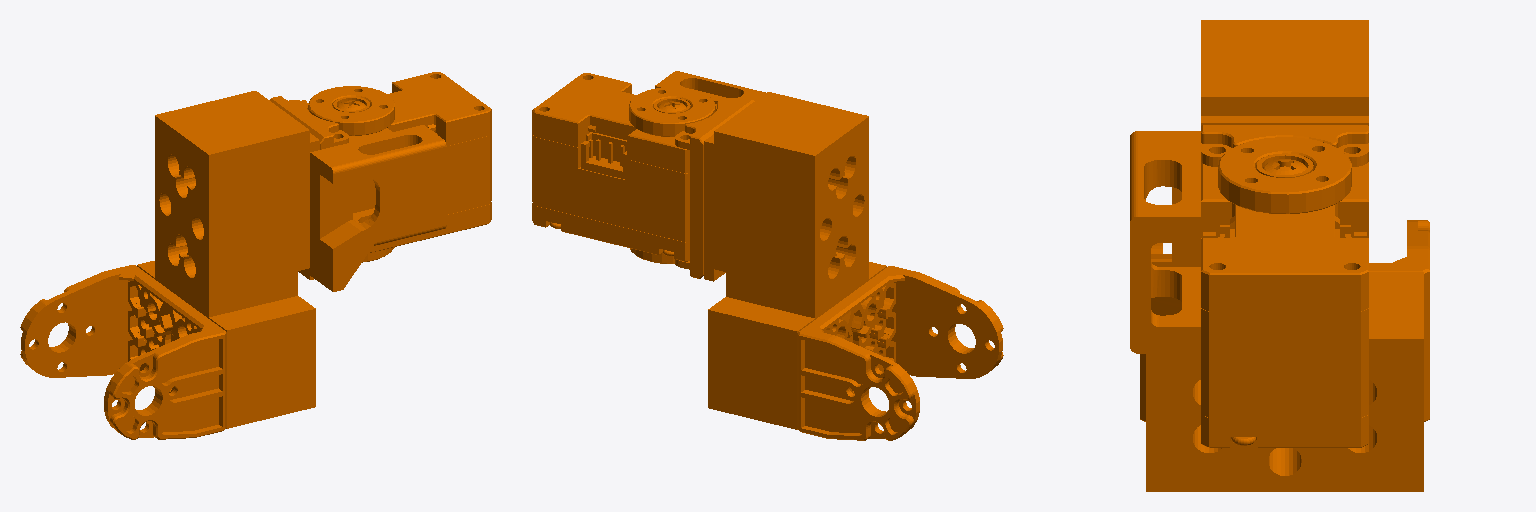
URDF robot description (onshape):
<robot name="onshape">
  <link name="palm_lower">
    <inertial>
      <origin xyz="0.0 0.0 0.0" rpy="0.0 -0.0 0.0"/>
      <mass value="0.237"/>
      <inertia ixx="0.000354094" ixy="-1.193e-06" ixz="-2.445e-06" iyy="0.000260915" iyz="-2.905e-06" izz="0.000529257"/>
    </inertial>
    <visual>
      <geometry>
        <mesh filename="../assets/leap/leap_hand/palm_lower.stl"/>
      </geometry>
      <origin xyz="-0.020095249652862544 0.025757756134899473 -0.034722403578460216" rpy="0.0 -0.0 0.0"/>
      <material name="palm_lower_material">
        <color rgba="0.6039215686274509 0.14901960784313725 0.14901960784313725 1.0"/>
      </material>
    </visual>
    <collision>
      <geometry>
        <mesh filename="../assets/leap/leap_hand/palm_lower.stl"/>
      </geometry>
      <origin xyz="-0.020095249652862544 0.025757756134899473 -0.034722403578460216" rpy="0.0 -0.0 0.0"/>
    </collision>
  </link>
  <link name="mcp_joint_long">
    <inertial>
      <origin xyz="0.0 0.0 0.0" rpy="0.0 -0.0 0.0"/>
      <mass value="0.044"/>
      <inertia ixx="1.1499e-05" ixy="3.049e-06" ixz="1.21e-07" iyy="7.796e-06" iyz="1.12e-07" izz="1.4759e-05"/>
    </inertial>
    <visual>
      <geometry>
        <mesh filename="custom_models/mcp_joint_long.stl"/>
      </geometry>
      <origin xyz="0.008406902261174496 0.0077662438597169954 0.014657354985032912" rpy="1.6375789613221e-15 -1.021047330249102e-30 1.7177968783327987e-31"/>
      <material name="mcp_joint_material">
        <color rgba="0.878 0.467 0.0 1.0"/>
      </material>
    </visual>
    <collision>
      <geometry>
        <mesh filename="custom_models/mcp_joint_long.stl"/>
      </geometry>
      <origin xyz="0.008406902261174496 0.0077662438597169954 0.014657354985032912" rpy="1.6375789613221e-15 -1.021047330249102e-30 1.7177968783327987e-31"/>
    </collision>
  </link>
  <link name="pip">
    <inertial>
      <origin xyz="0.0 0.0 0.0" rpy="0.0 -0.0 0.0"/>
      <mass value="0.032"/>
      <inertia ixx="4.798e-06" ixy="1.2e-08" ixz="4e-09" iyy="2.862e-06" iyz="1.1e-08" izz="4.234e-06"/>
    </inertial>
    <visual>
      <geometry>
        <mesh filename="../assets/leap/leap_hand/pip.stl"/>
      </geometry>
      <origin xyz="0.009643363092271328 0.0002999999999999895 0.0007840340104173765" rpy="-1.5707963267948966 -1.5707963267948963 0.0"/>
      <material name="pip_material">
        <color rgba="0.7490196078431373 0.7490196078431373 0.7490196078431373 1.0"/>
      </material>
    </visual>
    <collision>
      <geometry>
        <mesh filename="../assets/leap/leap_hand/pip.stl"/>
      </geometry>
      <origin xyz="0.009643363092271328 0.0002999999999999895 0.0007840340104173765" rpy="-1.5707963267948966 -1.5707963267948963 0.0"/>
    </collision>
  </link>
  <link name="dip">
    <inertial>
      <origin xyz="0.0 0.0 0.0" rpy="0.0 -0.0 0.0"/>
      <mass value="0.037"/>
      <inertia ixx="5.542e-06" ixy="-6.07e-07" ixz="-1.7e-08" iyy="5.727e-06" iyz="-2.3e-08" izz="6.682e-06"/>
    </inertial>
    <visual>
      <geometry>
        <mesh filename="../assets/leap/leap_hand/dip.stl"/>
      </geometry>
      <origin xyz="0.021133352895225003 -0.00843211914670488 0.00978508816209524" rpy="-3.141592653589793 4.507511124216441e-32 4.439548105392361e-32"/>
      <material name="dip_material">
        <color rgba="0.8666666666666667 0.8666666666666667 0.050980392156862744 1.0"/>
      </material>
    </visual>
    <collision>
      <geometry>
        <mesh filename="../assets/leap/leap_hand/dip.stl"/>
      </geometry>
      <origin xyz="0.021133352895225003 -0.00843211914670488 0.00978508816209524" rpy="-3.141592653589793 4.507511124216441e-32 4.439548105392361e-32"/>
    </collision>
  </link>
  <link name="fingertip">
    <inertial>
      <origin xyz="0.0 0.0 0.0" rpy="0.0 -0.0 0.0"/>
      <mass value="0.016"/>
      <inertia ixx="3.368e-06" ixy="1.15e-07" ixz="0.0" iyy="1.556e-06" iyz="0.0" izz="2.863e-06"/>
    </inertial>
    <visual>
      <geometry>
        <mesh filename="../assets/leap/leap_hand/fingertip.stl"/>
      </geometry>
      <origin xyz="0.013286424108533503 -0.006114238386541987 0.014499999999999498" rpy="3.141592653589793 1.1993117970061735e-33 4.439548105392361e-32"/>
      <material name="fingertip_material">
        <color rgba="0.8666666666666667 0.8666666666666667 0.050980392156862744 1.0"/>
      </material>
    </visual>
    <collision>
      <geometry>
        <mesh filename="../assets/leap/leap_hand/fingertip.stl"/>
      </geometry>
      <origin xyz="0.013286424108533503 -0.006114238386541987 0.014499999999999498" rpy="3.141592653589793 1.1993117970061735e-33 4.439548105392361e-32"/>
    </collision>
  </link>
  <link name="pip_4">
    <inertial>
      <origin xyz="0.0 0.0 0.0" rpy="0.0 -0.0 0.0"/>
      <mass value="0.032"/>
      <inertia ixx="4.798e-06" ixy="1.2e-08" ixz="4e-09" iyy="2.862e-06" iyz="1.1e-08" izz="4.234e-06"/>
    </inertial>
    <visual>
      <geometry>
        <mesh filename="../assets/leap/leap_hand/pip.stl"/>
      </geometry>
      <origin xyz="-0.005356636907728671 0.0002999999999999999 0.0007840340104173782" rpy="-1.5707963267948966 -1.5707963267948963 0.0"/>
      <material name="pip_material">
        <color rgba="0.7490196078431373 0.7490196078431373 0.7490196078431373 1.0"/>
      </material>
    </visual>
    <collision>
      <geometry>
        <mesh filename="../assets/leap/leap_hand/pip.stl"/>
      </geometry>
      <origin xyz="-0.005356636907728671 0.0002999999999999999 0.0007840340104173782" rpy="-1.5707963267948966 -1.5707963267948963 0.0"/>
    </collision>
  </link>
  <link name="thumb_pip">
    <inertial>
      <origin xyz="0.0 0.0 0.0" rpy="0.0 -0.0 0.0"/>
      <mass value="0.003"/>
      <inertia ixx="5.93e-07" ixy="0.0" ixz="0.0" iyy="5.49e-07" iyz="0.0" izz="2.24e-07"/>
    </inertial>
    <visual>
      <geometry>
        <mesh filename="../assets/leap/leap_hand/thumb_pip.stl"/>
      </geometry>
      <origin xyz="0.011961920770611187 -5.30825383648903e-16 -0.0158526489566642" rpy="1.5707963267948966 1.6050198443300153e-46 -3.9204996250525193e-59"/>
      <material name="thumb_pip_material">
        <color rgba="0.8666666666666667 0.8666666666666667 0.050980392156862744 1.0"/>
      </material>
    </visual>
    <collision>
      <geometry>
        <mesh filename="../assets/leap/leap_hand/thumb_pip.stl"/>
      </geometry>
      <origin xyz="0.011961920770611187 -5.30825383648903e-16 -0.0158526489566642" rpy="1.5707963267948966 1.6050198443300153e-46 -3.9204996250525193e-59"/>
    </collision>
  </link>
  <link name="thumb_dip">
    <inertial>
      <origin xyz="0.0 0.0 0.0" rpy="0.0 -0.0 0.0"/>
      <mass value="0.038"/>
      <inertia ixx="8.474e-06" ixy="2.41e-07" ixz="2.6e-08" iyy="3.841e-06" iyz="2.5e-08" izz="7.679e-06"/>
    </inertial>
    <visual>
      <geometry>
        <mesh filename="../assets/leap/leap_hand/thumb_dip.stl"/>
      </geometry>
      <origin xyz="0.043968715707239175 0.0579529529737092 -0.008628676449369476" rpy="1.94289029309401e-16 3.27515792264422e-15 1.112375852965736e-46"/>
      <material name="thumb_dip_material">
        <color rgba="0.8666666666666667 0.8666666666666667 0.050980392156862744 1.0"/>
      </material>
    </visual>
    <collision>
      <geometry>
        <mesh filename="../assets/leap/leap_hand/thumb_dip.stl"/>
      </geometry>
      <origin xyz="0.043968715707239175 0.0579529529737092 -0.008628676449369476" rpy="1.94289029309401e-16 3.27515792264422e-15 1.112375852965736e-46"/>
    </collision>
  </link>
  <link name="thumb_fingertip">
    <inertial>
      <origin xyz="0.0 0.0 0.0" rpy="0.0 -0.0 0.0"/>
      <mass value="0.049"/>
      <inertia ixx="2.0372e-05" ixy="-4.89e-07" ixz="-3e-08" iyy="4.336e-06" iyz="-9.7e-08" izz="1.9845e-05"/>
    </inertial>
    <visual>
      <geometry>
        <mesh filename="../assets/leap/leap_hand/thumb_fingertip.stl"/>
      </geometry>
      <origin xyz="0.06255953846266739 0.07845968291139699 0.048992911807332215" rpy="4.379057701015637e-47 -3.33066907387547e-16 1.2042408677791935e-46"/>
      <material name="thumb_fingertip_material">
        <color rgba="0.6039215686274509 0.14901960784313725 0.14901960784313725 1.0"/>
      </material>
    </visual>
    <collision>
      <geometry>
        <mesh filename="../assets/leap/leap_hand/thumb_fingertip.stl"/>
      </geometry>
      <origin xyz="0.06255953846266739 0.07845968291139699 0.048992911807332215" rpy="4.379057701015637e-47 -3.33066907387547e-16 1.2042408677791935e-46"/>
    </collision>
  </link>
  <link name="mcp_joint_2">
    <inertial>
      <origin xyz="0.0 0.0 0.0" rpy="0.0 -0.0 0.0"/>
      <mass value="0.044"/>
      <inertia ixx="1.1499e-05" ixy="3.049e-06" ixz="1.21e-07" iyy="7.796e-06" iyz="1.12e-07" izz="1.4759e-05"/>
    </inertial>
    <visual>
      <geometry>
        <mesh filename="../assets/leap/leap_hand/mcp_joint.stl"/>
      </geometry>
      <origin xyz="0.008406902261174496 0.0077662438597169954 0.014657354985032914" rpy="1.6375789613221e-15 -1.0076465469034e-30 2.1209300131419907e-61"/>
      <material name="mcp_joint_material">
        <color rgba="0.8666666666666667 0.8666666666666667 0.050980392156862744 1.0"/>
      </material>
    </visual>
    <collision>
      <geometry>
        <mesh filename="../assets/leap/leap_hand/mcp_joint.stl"/>
      </geometry>
      <origin xyz="0.008406902261174496 0.0077662438597169954 0.014657354985032914" rpy="1.6375789613221e-15 -1.0076465469034e-30 2.1209300131419907e-61"/>
    </collision>
  </link>
  <link name="pip_2">
    <inertial>
      <origin xyz="0.0 0.0 0.0" rpy="0.0 -0.0 0.0"/>
      <mass value="0.032"/>
      <inertia ixx="4.798e-06" ixy="1.2e-08" ixz="4e-09" iyy="2.862e-06" iyz="1.1e-08" izz="4.234e-06"/>
    </inertial>
    <visual>
      <geometry>
        <mesh filename="../assets/leap/leap_hand/pip.stl"/>
      </geometry>
      <origin xyz="0.009643363092271328 0.0002999999999999947 0.0007840340104173765" rpy="-1.5707963267948966 -1.5707963267948963 0.0"/>
      <material name="pip_material">
        <color rgba="0.7490196078431373 0.7490196078431373 0.7490196078431373 1.0"/>
      </material>
    </visual>
    <collision>
      <geometry>
        <mesh filename="../assets/leap/leap_hand/pip.stl"/>
      </geometry>
      <origin xyz="0.009643363092271328 0.0002999999999999947 0.0007840340104173765" rpy="-1.5707963267948966 -1.5707963267948963 0.0"/>
    </collision>
  </link>
  <link name="dip_2">
    <inertial>
      <origin xyz="0.0 0.0 0.0" rpy="0.0 -0.0 0.0"/>
      <mass value="0.037"/>
      <inertia ixx="5.542e-06" ixy="-6.07e-07" ixz="-1.7e-08" iyy="5.727e-06" iyz="-2.3e-08" izz="6.682e-06"/>
    </inertial>
    <visual>
      <geometry>
        <mesh filename="../assets/leap/leap_hand/dip.stl"/>
      </geometry>
      <origin xyz="0.021133352895225003 -0.008432119146704865 0.009785088162095237" rpy="-3.141592653589793 2.1146933785271956e-32 1.4408183216511869e-31"/>
      <material name="dip_material">
        <color rgba="0.8666666666666667 0.8666666666666667 0.050980392156862744 1.0"/>
      </material>
    </visual>
    <collision>
      <geometry>
        <mesh filename="../assets/leap/leap_hand/dip.stl"/>
      </geometry>
      <origin xyz="0.021133352895225003 -0.008432119146704865 0.009785088162095237" rpy="-3.141592653589793 2.1146933785271956e-32 1.4408183216511869e-31"/>
    </collision>
  </link>
  <link name="fingertip_2">
    <inertial>
      <origin xyz="0.0 0.0 0.0" rpy="0.0 -0.0 0.0"/>
      <mass value="0.016"/>
      <inertia ixx="3.368e-06" ixy="1.15e-07" ixz="0.0" iyy="1.556e-06" iyz="0.0" izz="2.863e-06"/>
    </inertial>
    <visual>
      <geometry>
        <mesh filename="../assets/leap/leap_hand/fingertip.stl"/>
      </geometry>
      <origin xyz="0.013286424108533496 -0.006114238386542001 0.014499999999999496" rpy="3.141592653589793 -4.317959788283594e-33 1.4408183216511869e-31"/>
      <material name="fingertip_material">
        <color rgba="0.8666666666666667 0.8666666666666667 0.050980392156862744 1.0"/>
      </material>
    </visual>
    <collision>
      <geometry>
        <mesh filename="../assets/leap/leap_hand/fingertip.stl"/>
      </geometry>
      <origin xyz="0.013286424108533496 -0.006114238386542001 0.014499999999999496" rpy="3.141592653589793 -4.317959788283594e-33 1.4408183216511869e-31"/>
    </collision>
  </link>
  <link name="mcp_joint_3">
    <inertial>
      <origin xyz="0.0 0.0 0.0" rpy="0.0 -0.0 0.0"/>
      <mass value="0.044"/>
      <inertia ixx="1.1499e-05" ixy="3.049e-06" ixz="1.21e-07" iyy="7.796e-06" iyz="1.12e-07" izz="1.4759e-05"/>
    </inertial>
    <visual>
      <geometry>
        <mesh filename="../assets/leap/leap_hand/mcp_joint.stl"/>
      </geometry>
      <origin xyz="0.0084069022611745 0.007766243859716996 0.014657354985032914" rpy="1.6375789613221e-15 -1.0059504988632627e-30 5.729641584552035e-32"/>
      <material name="mcp_joint_material">
        <color rgba="0.8666666666666667 0.8666666666666667 0.050980392156862744 1.0"/>
      </material>
    </visual>
    <collision>
      <geometry>
        <mesh filename="../assets/leap/leap_hand/mcp_joint.stl"/>
      </geometry>
      <origin xyz="0.0084069022611745 0.007766243859716996 0.014657354985032914" rpy="1.6375789613221e-15 -1.0059504988632627e-30 5.729641584552035e-32"/>
    </collision>
  </link>
  <link name="pip_3">
    <inertial>
      <origin xyz="0.0 0.0 0.0" rpy="0.0 -0.0 0.0"/>
      <mass value="0.032"/>
      <inertia ixx="4.798e-06" ixy="1.2e-08" ixz="4e-09" iyy="2.862e-06" iyz="1.1e-08" izz="4.234e-06"/>
    </inertial>
    <visual>
      <geometry>
        <mesh filename="../assets/leap/leap_hand/pip.stl"/>
      </geometry>
      <origin xyz="0.009643363092271331 0.00029999999999998084 0.0007840340104173765" rpy="-1.5707963267948966 -1.5707963267948963 0.0"/>
      <material name="pip_material">
        <color rgba="0.7490196078431373 0.7490196078431373 0.7490196078431373 1.0"/>
      </material>
    </visual>
    <collision>
      <geometry>
        <mesh filename="../assets/leap/leap_hand/pip.stl"/>
      </geometry>
      <origin xyz="0.009643363092271331 0.00029999999999998084 0.0007840340104173765" rpy="-1.5707963267948966 -1.5707963267948963 0.0"/>
    </collision>
  </link>
  <link name="dip_3">
    <inertial>
      <origin xyz="0.0 0.0 0.0" rpy="0.0 -0.0 0.0"/>
      <mass value="0.037"/>
      <inertia ixx="5.542e-06" ixy="-6.07e-07" ixz="-1.7e-08" iyy="5.727e-06" iyz="-2.3e-08" izz="6.682e-06"/>
    </inertial>
    <visual>
      <geometry>
        <mesh filename="../assets/leap/leap_hand/dip.stl"/>
      </geometry>
      <origin xyz="0.021133352895225006 -0.008432119146704865 0.009785088162095237" rpy="-3.141592653589793 -1.4095651113919093e-33 1.5565411607615035e-32"/>
      <material name="dip_material">
        <color rgba="0.8666666666666667 0.8666666666666667 0.050980392156862744 1.0"/>
      </material>
    </visual>
    <collision>
      <geometry>
        <mesh filename="../assets/leap/leap_hand/dip.stl"/>
      </geometry>
      <origin xyz="0.021133352895225006 -0.008432119146704865 0.009785088162095237" rpy="-3.141592653589793 -1.4095651113919093e-33 1.5565411607615035e-32"/>
    </collision>
  </link>
  <link name="fingertip_3">
    <inertial>
      <origin xyz="0.0 0.0 0.0" rpy="0.0 -0.0 0.0"/>
      <mass value="0.016"/>
      <inertia ixx="3.368e-06" ixy="1.15e-07" ixz="0.0" iyy="1.556e-06" iyz="0.0" izz="2.863e-06"/>
    </inertial>
    <visual>
      <geometry>
        <mesh filename="../assets/leap/leap_hand/fingertip.stl"/>
      </geometry>
      <origin xyz="0.013286424108533501 -0.006114238386541987 0.0144999999999995" rpy="3.141592653589793 8.61707169505754e-33 1.5565411607615035e-32"/>
      <material name="fingertip_material">
        <color rgba="0.8666666666666667 0.8666666666666667 0.050980392156862744 1.0"/>
      </material>
    </visual>
    <collision>
      <geometry>
        <mesh filename="../assets/leap/leap_hand/fingertip.stl"/>
      </geometry>
      <origin xyz="0.013286424108533501 -0.006114238386541987 0.0144999999999995" rpy="3.141592653589793 8.61707169505754e-33 1.5565411607615035e-32"/>
    </collision>
  </link>
  <joint name="1" type="revolute">
    <parent link="palm_lower"/>
    <child link="mcp_joint_long"/>
    <origin xyz="-0.007095249652862546 0.023057756134899472 -0.01872240357846022" rpy="1.570796326794895 1.5707963267948946 0.0"/>
    <axis xyz="0.0 0.0 -1.0"/>
    <limit effort="0.95" velocity="8.48" lower="-0.314" upper="2.23"/>
  </joint>
  <joint name="0" type="revolute">
    <parent link="mcp_joint_long"/>
    <child link="pip"/>
    <origin xyz="-0.012200000000000007713 0.053099999999999994982 0.014500000000000000736" rpy="-1.5707963267948966 -1.0065212660796337e-15 1.5707963267948943"/>
    <axis xyz="0.0 0.0 -1.0"/>
    <limit effort="0.95" velocity="8.48" lower="-1.047" upper="1.047"/>
  </joint>
  <joint name="2" type="revolute">
    <parent link="pip"/>
    <child link="dip"/>
    <origin xyz="0.014999999999999968 0.014299999999999905 -0.012999999999999824" rpy="1.570796326794896 -1.5707963267948963 0.0"/>
    <axis xyz="0.0 0.0 -1.0"/>
    <limit effort="0.95" velocity="8.48" lower="-0.506" upper="1.885"/>
  </joint>
  <joint name="3" type="revolute">
    <parent link="dip"/>
    <child link="fingertip"/>
    <origin xyz="-4.088058249557269e-09 -0.03610000421036737 0.0002000000000000786" rpy="4.5935029425113685e-17 -2.8730071914463795e-16 4.439548105392361e-32"/>
    <axis xyz="0.0 0.0 -1.0"/>
    <limit effort="0.95" velocity="8.48" lower="-0.366" upper="2.042"/>
  </joint>
  <joint name="12" type="revolute">
    <parent link="palm_lower"/>
    <child link="pip_4"/>
    <origin xyz="-0.06939524965286253 -0.0012422438651005258 -0.021622403578460216" rpy="-8.238176646493942e-17 1.5707963267948957 0.0"/>
    <axis xyz="0.0 0.0 -1.0"/>
    <limit effort="0.95" velocity="8.48" lower="-0.349" upper="2.094"/>
  </joint>
  <joint name="13" type="revolute">
    <parent link="pip_4"/>
    <child link="thumb_pip"/>
    <origin xyz="-2.7755575615628914e-17 0.014300000000000005 -0.013000000000000012" rpy="1.570796326794896 -1.5707963267948963 0.0"/>
    <axis xyz="0.0 0.0 -1.0"/>
    <limit effort="0.95" velocity="8.48" lower="-0.47" upper="2.443"/>
  </joint>
  <joint name="14" type="revolute">
    <parent link="thumb_pip"/>
    <child link="thumb_dip"/>
    <origin xyz="0.0 0.014499999999999966 -0.017000000000000053" rpy="-1.5707963267948966 1.6050198443300131e-46 -1.9721522630516625e-31"/>
    <axis xyz="0.0 0.0 -1.0"/>
    <limit effort="0.95" velocity="8.48" lower="-1.2" upper="1.9"/>
  </joint>
  <joint name="15" type="revolute">
    <parent link="thumb_dip"/>
    <child link="thumb_fingertip"/>
    <origin xyz="-1.249000902703301e-16 0.046599999999999864 0.0001999999999999771" rpy="1.506395849149178e-44 5.423418723393526e-31 3.141592653589793"/>
    <axis xyz="0.0 0.0 -1.0"/>
    <limit effort="0.95" velocity="8.48" lower="-1.34" upper="1.88"/>
  </joint>
  <joint name="5" type="revolute">
    <parent link="palm_lower"/>
    <child link="mcp_joint_2"/>
    <origin xyz="-0.007095249652862546 -0.022392243865100525 -0.01872240357846022" rpy="1.570796326794895 1.5707963267948946 0.0"/>
    <axis xyz="0.0 0.0 -1.0"/>
    <limit effort="0.95" velocity="8.48" lower="-0.314" upper="2.23"/>
  </joint>
  <joint name="4" type="revolute">
    <parent link="mcp_joint_2"/>
    <child link="pip_2"/>
    <origin xyz="-0.012200000000000008 0.038099999999999995 0.0145" rpy="-1.5707963267948966 -1.0065212660796337e-15 1.5707963267948943"/>
    <axis xyz="0.0 0.0 -1.0"/>
    <limit effort="0.95" velocity="8.48" lower="-1.047" upper="1.047"/>
  </joint>
  <joint name="6" type="revolute">
    <parent link="pip_2"/>
    <child link="dip_2"/>
    <origin xyz="0.014999999999999968 0.014299999999999905 -0.012999999999999824" rpy="1.570796326794896 -1.5707963267948963 0.0"/>
    <axis xyz="0.0 0.0 -1.0"/>
    <limit effort="0.95" velocity="8.48" lower="-0.506" upper="1.885"/>
  </joint>
  <joint name="7" type="revolute">
    <parent link="dip_2"/>
    <child link="fingertip_2"/>
    <origin xyz="-4.088058249557269e-09 -0.03610000421036737 0.0002000000000000786" rpy="4.5935029425113685e-17 -2.8730071914463795e-16 4.439548105392361e-32"/>
    <axis xyz="0.0 0.0 -1.0"/>
    <limit effort="0.95" velocity="8.48" lower="-0.366" upper="2.042"/>
  </joint>
  <joint name="9" type="revolute">
    <parent link="palm_lower"/>
    <child link="mcp_joint_3"/>
    <origin xyz="-0.007095249652862546 -0.06784224386510052 -0.01872240357846022" rpy="1.570796326794895 1.5707963267948946 0.0"/>
    <axis xyz="0.0 0.0 -1.0"/>
    <limit effort="0.95" velocity="8.48" lower="-0.314" upper="2.23"/>
  </joint>
  <joint name="8" type="revolute">
    <parent link="mcp_joint_3"/>
    <child link="pip_3"/>
    <origin xyz="-0.012200000000000008 0.038099999999999995 0.0145" rpy="-1.5707963267948966 -1.0065212660796337e-15 1.5707963267948943"/>
    <axis xyz="0.0 0.0 -1.0"/>
    <limit effort="0.95" velocity="8.48" lower="-1.047" upper="1.047"/>
  </joint>
  <joint name="10" type="revolute">
    <parent link="pip_3"/>
    <child link="dip_3"/>
    <origin xyz="0.014999999999999968 0.014299999999999905 -0.012999999999999824" rpy="1.570796326794896 -1.5707963267948963 0.0"/>
    <axis xyz="0.0 0.0 -1.0"/>
    <limit effort="0.95" velocity="8.48" lower="-0.506" upper="1.885"/>
  </joint>
  <joint name="11" type="revolute">
    <parent link="dip_3"/>
    <child link="fingertip_3"/>
    <origin xyz="-4.088058249557269e-09 -0.03610000421036737 0.0002000000000000786" rpy="4.5935029425113685e-17 -2.8730071914463795e-16 4.439548105392361e-32"/>
    <axis xyz="0.0 0.0 -1.0"/>
    <limit effort="0.95" velocity="8.48" lower="-0.366" upper="2.042"/>
  </joint>
</robot>

--- Render facts (derived) ---
Views: 3 orthographic renders of the robot side by side, from view 1: azimuth 30°, elevation 25°; view 2: azimuth 150°, elevation 25°; view 3: azimuth 270°, elevation 25°.
Robot: onshape — 17 links, 16 joints (16 revolute); root link palm_lower; default pose: all joints at 0.
Links seen in each view (by area): view 1: mcp_joint_long; view 2: mcp_joint_long; view 3: mcp_joint_long.
Boxes of the visible links, x1=… form: mcp_joint_long: x1=20, y1=72, x2=491, y2=439; mcp_joint_long: x1=532, y1=71, x2=1003, y2=440; mcp_joint_long: x1=1130, y1=20, x2=1429, y2=491.
Size in the robot's own frame: 0.0855 by 0.0358 by 0.053 metres.
1 mesh visuals loaded from 9 distinct referenced files (1 binary STL); not drawn: 16 (reference not matched to a file when rendering).